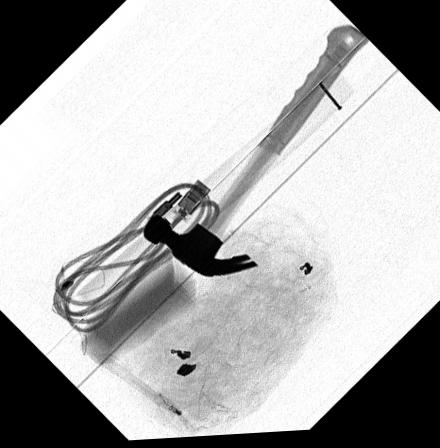Hammer: (140, 28, 368, 280)
